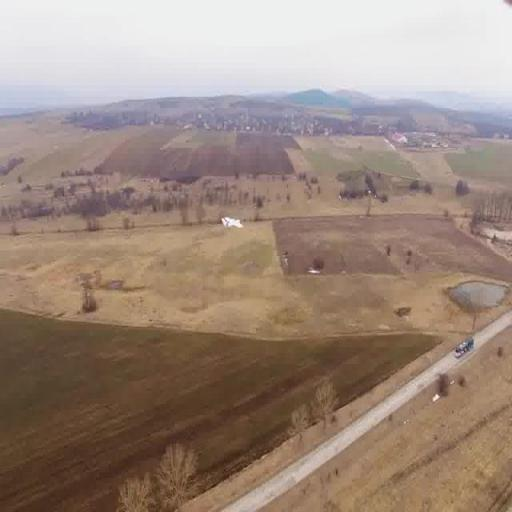uav: (218, 212, 248, 231)
